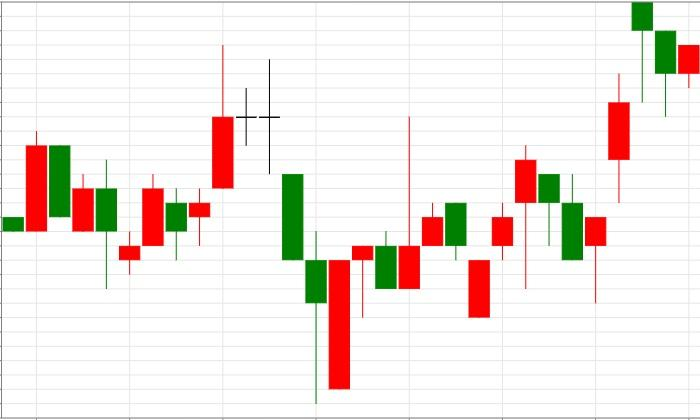three_white_soldiers_rise: (422, 146, 537, 318)
